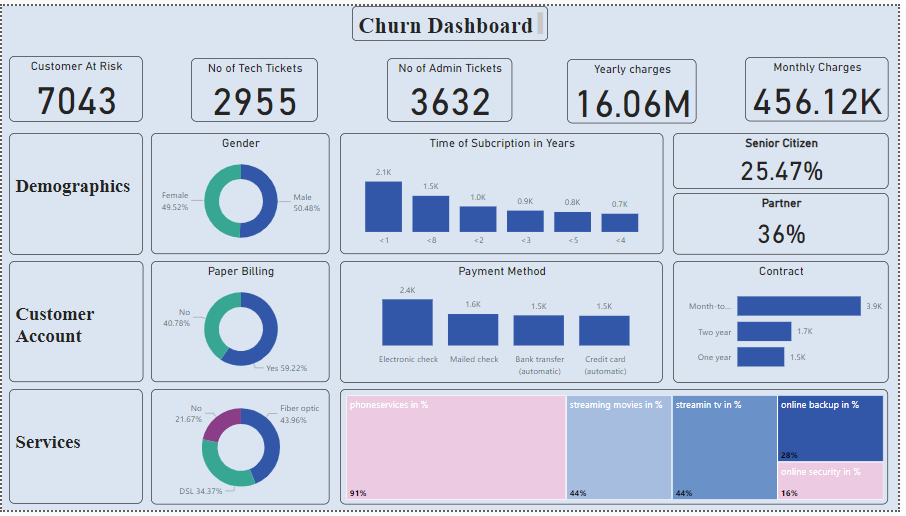

This screenshot's page, from the dashboard's own definition file:
{"tool":"powerbi","page":{"name":"Page 1","canvas":[1280,720],"ordinal":0},"visuals":[{"type":"textbox","box":[500,0,280,50],"z":0},{"type":"card","title":"Customer At Risk","fields":{"Values":["CountNonNull(01 Churn-Dataset.customerID)"]},"box":[10,71.2,191.2,93.8],"z":1000},{"type":"card","title":"Yearly charges","fields":{"Values":["Sum(01 Churn-Dataset.TotalCharges)"]},"box":[806.7,75,185,91.7],"z":2000},{"type":"card","title":"No of Admin Tickets","fields":{"Values":["Sum(01 Churn-Dataset.numAdminTickets)"]},"box":[550,73.8,178.8,91.2],"z":3000},{"type":"card","title":"No of Tech Tickets","fields":{"Values":["Sum(01 Churn-Dataset.numTechTickets)"]},"box":[270,73.8,181.2,91.2],"z":4000},{"type":"card","title":"Monthly Charges","fields":{"Values":["Sum(01 Churn-Dataset.MonthlyCharges)"]},"box":[1061.7,73.3,205,91.7],"z":5000},{"type":"donutChart","title":"Gender","fields":{"Category":["01 Churn-Dataset.gender"],"Y":["CountNonNull(01 Churn-Dataset.customerID)"]},"box":[213.3,181.7,255,173.3],"z":6000},{"type":"columnChart","title":"Time of Subcription in Years","fields":{"Y":["CountNonNull(01 Churn-Dataset.Churn)"],"Category":["01 Churn-Dataset.subscription"]},"box":[483.3,181.7,461.7,173.3],"z":7000},{"type":"card","title":"Senior Citizen","fields":{"Values":["01 Churn-Dataset.%seniorcitizen"]},"box":[958.3,181.7,308.3,80],"z":8000},{"type":"card","title":"Partner","fields":{"Values":["01 Churn-Dataset.%partner"]},"box":[958.3,266.7,308.3,88.3],"z":9000},{"type":"columnChart","title":"Payment Method","fields":{"Y":["CountNonNull(01 Churn-Dataset.Churn)"],"Category":["01 Churn-Dataset.PaymentMethod"]},"box":[482.5,365,461.2,173.8],"z":10000},{"type":"donutChart","title":"Paper Billing","fields":{"Category":["01 Churn-Dataset.PaperlessBilling"],"Y":["CountNonNull(01 Churn-Dataset.customerID)"]},"box":[213.3,365,255,173.3],"z":11000},{"type":"clusteredBarChart","title":"Contract","fields":{"Category":["01 Churn-Dataset.Contract"],"Y":["CountNonNull(01 Churn-Dataset.Churn)"]},"box":[958.8,365,307.5,173.8],"z":12000},{"type":"donutChart","fields":{"Category":["01 Churn-Dataset.InternetService"],"Y":["CountNonNull(01 Churn-Dataset.customerID)"]},"box":[213.3,546.7,255,165],"z":13000},{"type":"textbox","box":[10,547.5,191.2,163.8],"z":14000},{"type":"textbox","box":[10,181.2,191.2,173.8],"z":15000},{"type":"textbox","box":[10,365,191.7,173.3],"z":16000},{"type":"treemap","fields":{"Values":["01 Churn-Dataset.online backup in %","01 Churn-Dataset.online security in %","01 Churn-Dataset.phoneservices in %","01 Churn-Dataset.streaming movies in %","01 Churn-Dataset.streamin tv in %"]},"box":[483.3,546.7,783.3,165],"z":17000}]}

Visuals, with their boxes in screenshot pixels (x1, y1, x2, y2), scaled from the page's 1280x720 canvas onto the 906x516 screenshot:
textbox: <bbox>354, 0, 552, 36</bbox>
"Customer At Risk" card: <bbox>7, 51, 142, 118</bbox>
"Yearly charges" card: <bbox>571, 54, 702, 119</bbox>
"No of Admin Tickets" card: <bbox>389, 53, 516, 118</bbox>
"No of Tech Tickets" card: <bbox>191, 53, 319, 118</bbox>
"Monthly Charges" card: <bbox>751, 53, 897, 118</bbox>
"Gender" donutChart: <bbox>151, 130, 331, 254</bbox>
"Time of Subcription in Years" columnChart: <bbox>342, 130, 669, 254</bbox>
"Senior Citizen" card: <bbox>678, 130, 897, 188</bbox>
"Partner" card: <bbox>678, 191, 897, 254</bbox>
"Payment Method" columnChart: <bbox>342, 262, 668, 386</bbox>
"Paper Billing" donutChart: <bbox>151, 262, 331, 386</bbox>
"Contract" clusteredBarChart: <bbox>679, 262, 896, 386</bbox>
donutChart - 01 Churn-Dataset.InternetService x CountNonNull(01 Churn-Dataset.customerID): <bbox>151, 392, 331, 510</bbox>
textbox: <bbox>7, 392, 142, 510</bbox>
textbox: <bbox>7, 130, 142, 254</bbox>
textbox: <bbox>7, 262, 143, 386</bbox>
treemap - 01 Churn-Dataset.online backup in % x 01 Churn-Dataset.online security in %: <bbox>342, 392, 897, 510</bbox>
